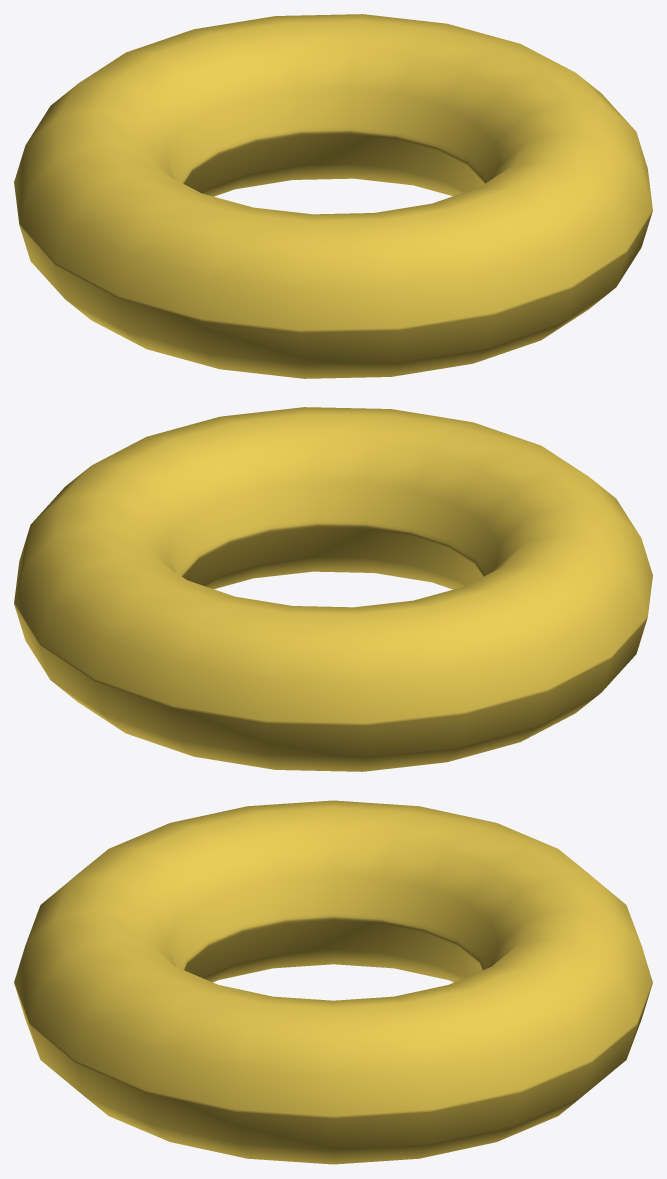
The model's file is inflatable_buoy.glb.
3 views of the same model, one above another, from view 1: azimuth 30°, elevation 25°; view 2: azimuth 150°, elevation 25°; view 3: azimuth 270°, elevation 25° (orthographic).
Visible parts, largest first — view 1: Inflatable_Buoy; view 2: Inflatable_Buoy; view 3: Inflatable_Buoy.
Boxes of the visible parts, <box> form: Inflatable_Buoy: <box>14,14,652,378</box>; Inflatable_Buoy: <box>14,407,652,771</box>; Inflatable_Buoy: <box>14,800,652,1164</box>.
Size of the model in its own units: 1.55 by 0.4 by 1.55.
